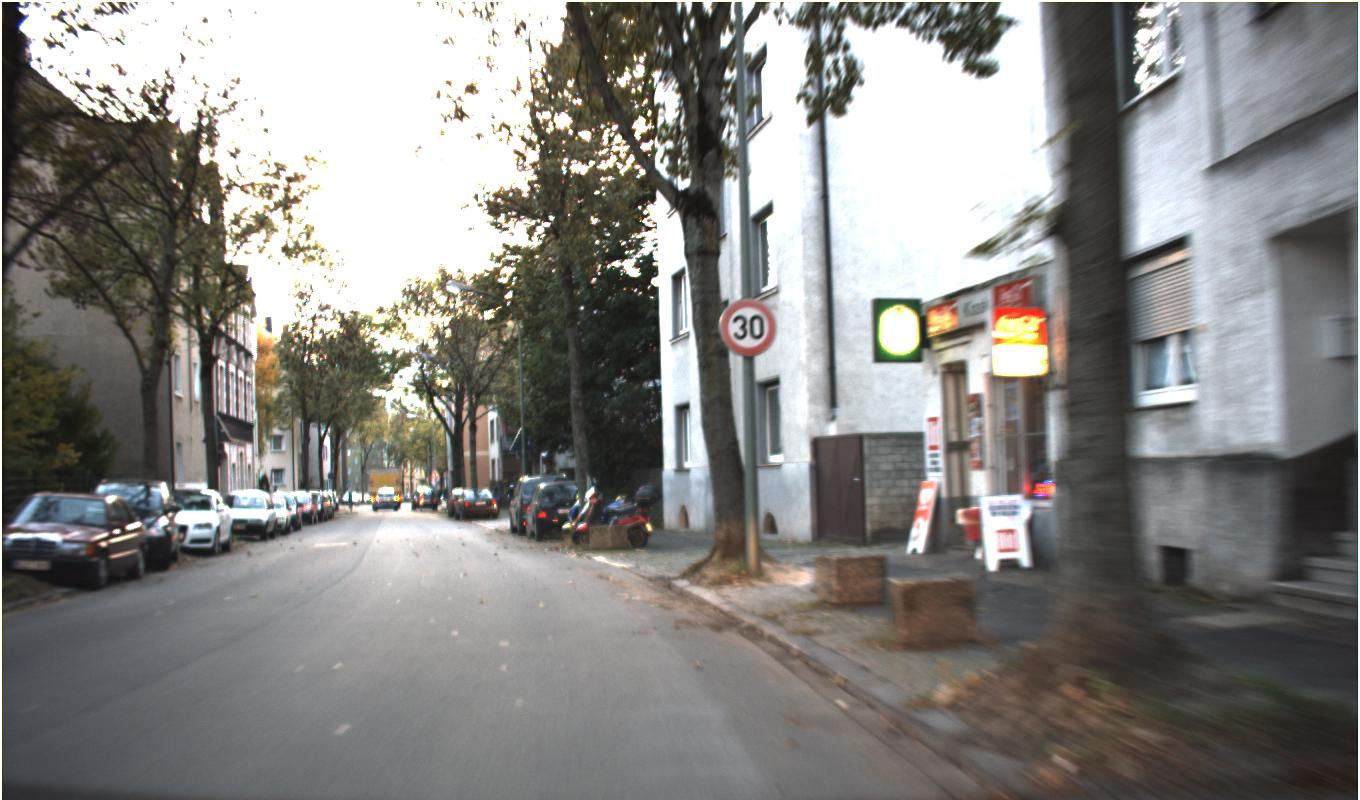prohibitory: (718, 298, 777, 356)
